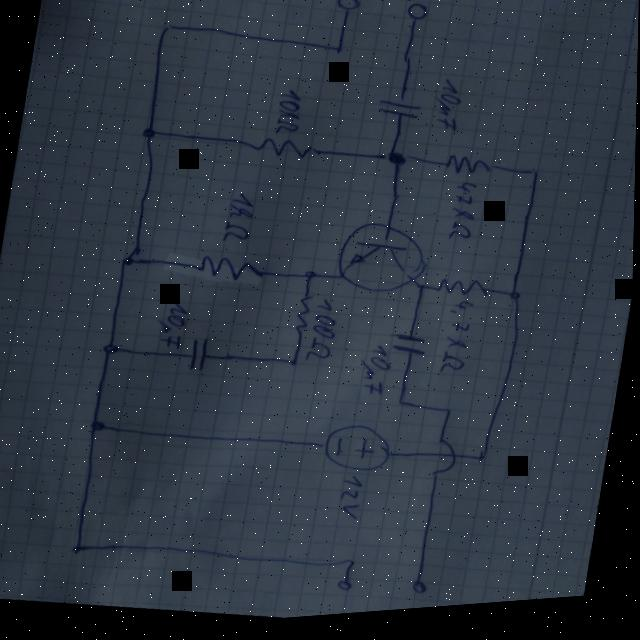capacitor: (376, 101, 425, 128), (391, 335, 433, 364), (188, 337, 214, 376)
crossover: (429, 441, 464, 487)
junction: (381, 152, 412, 178), (86, 415, 115, 438), (100, 339, 126, 361), (70, 538, 94, 561), (117, 252, 143, 272), (139, 124, 163, 145), (476, 456, 496, 473), (158, 21, 178, 38), (286, 358, 306, 374), (394, 400, 413, 416), (508, 295, 526, 311), (441, 410, 459, 426), (303, 271, 321, 287), (330, 46, 349, 61), (343, 560, 361, 575), (528, 174, 543, 187), (414, 287, 429, 300)
resistor: (192, 248, 272, 292), (250, 135, 325, 170), (434, 278, 495, 309), (441, 156, 496, 187), (291, 294, 319, 339)
source: (322, 422, 399, 483)
terminal: (402, 3, 434, 32), (333, 0, 365, 21), (411, 581, 435, 603), (336, 581, 358, 600)
text: (437, 301, 479, 384), (307, 300, 344, 366), (358, 346, 396, 404), (449, 185, 482, 251), (155, 299, 194, 354), (222, 193, 260, 249), (433, 82, 467, 141), (274, 89, 307, 142), (338, 476, 370, 527)
transistor: (331, 218, 435, 308)
